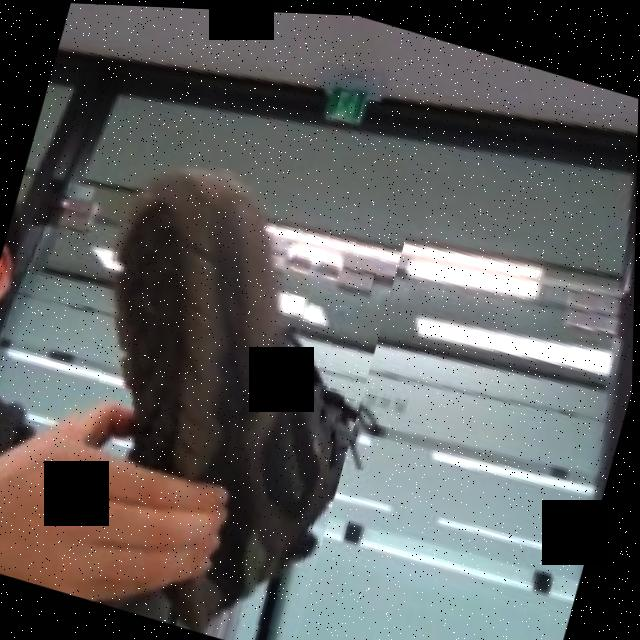shoe: (24, 138, 412, 640)
